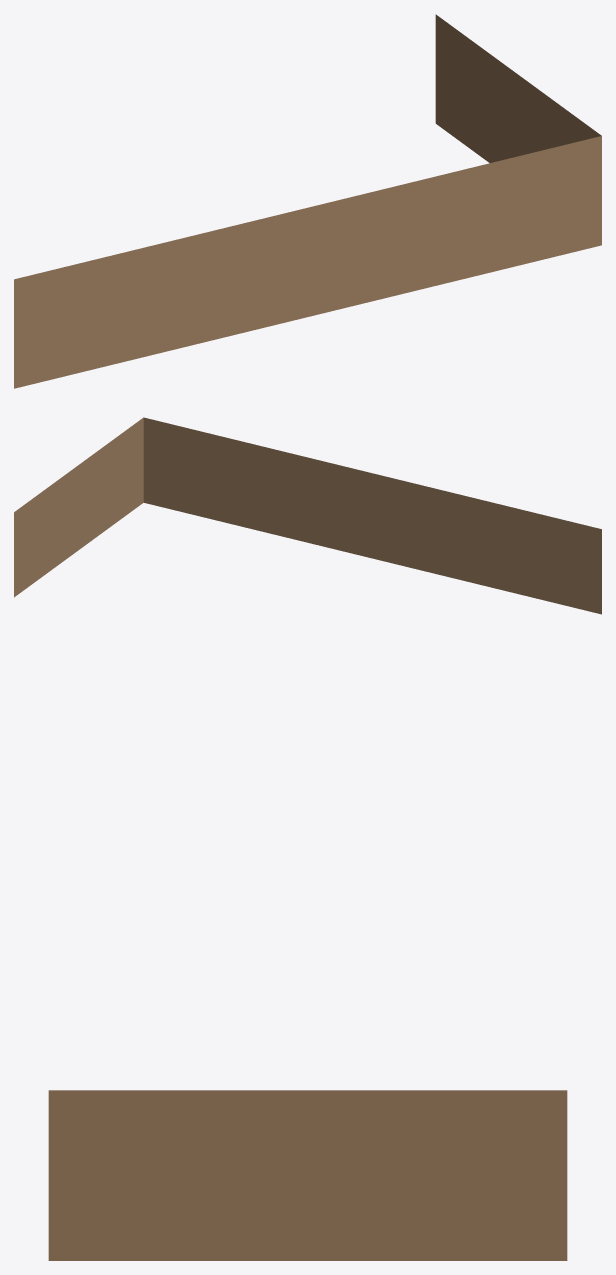
File: 1205-Buildings-shell-pieces-facade-bay-wall-round-an-opening-reveals-sill-head-emitBa.glb
3 renders of one model, top to bottom at view 1: azimuth 30°, elevation 25°; view 2: azimuth 150°, elevation 25°; view 3: azimuth 270°, elevation 25°, orthographic. The views are drawn at different scales.
Visible parts, largest first — view 1: emitBay; view 2: emitBay; view 3: emitBay.
Boxes of the visible parts, left/top/right/bottom form: emitBay: left=14, top=14, right=601, bottom=388; emitBay: left=14, top=417, right=601, bottom=614; emitBay: left=48, top=1090, right=567, bottom=1260.
Bounding box in the file's own units: 17.14 × 3.05 × 8.4.
